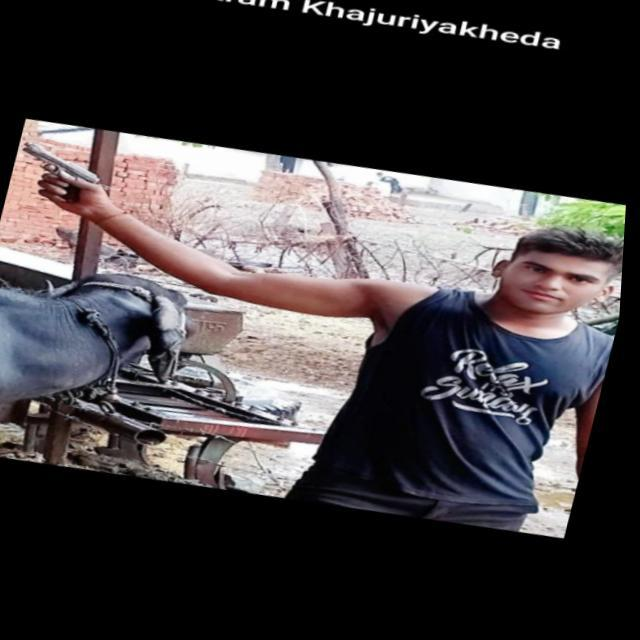weapon: (8, 136, 115, 214)
